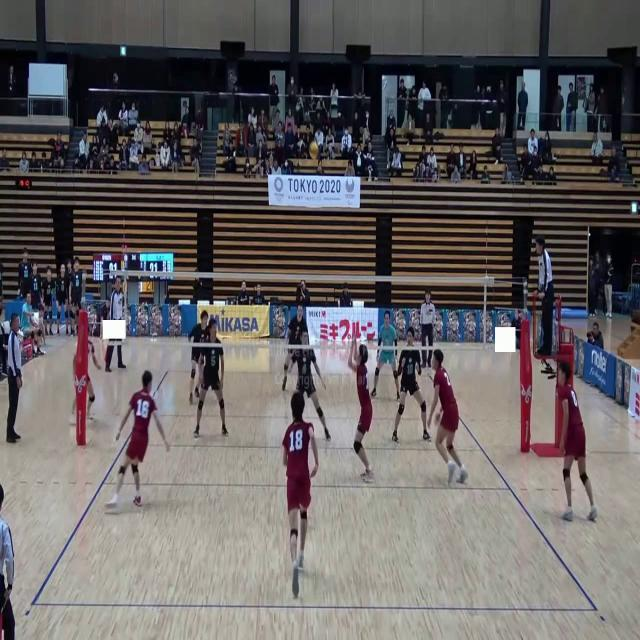volleyball: (308, 142, 320, 160)
